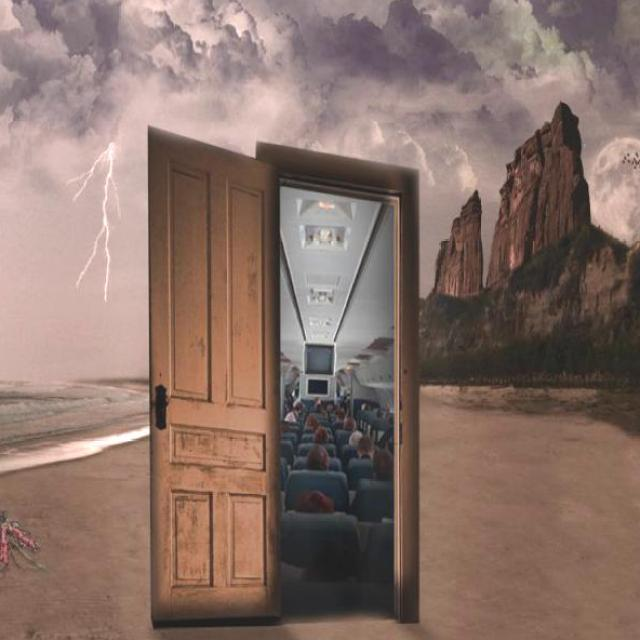door: (147, 124, 281, 627)
